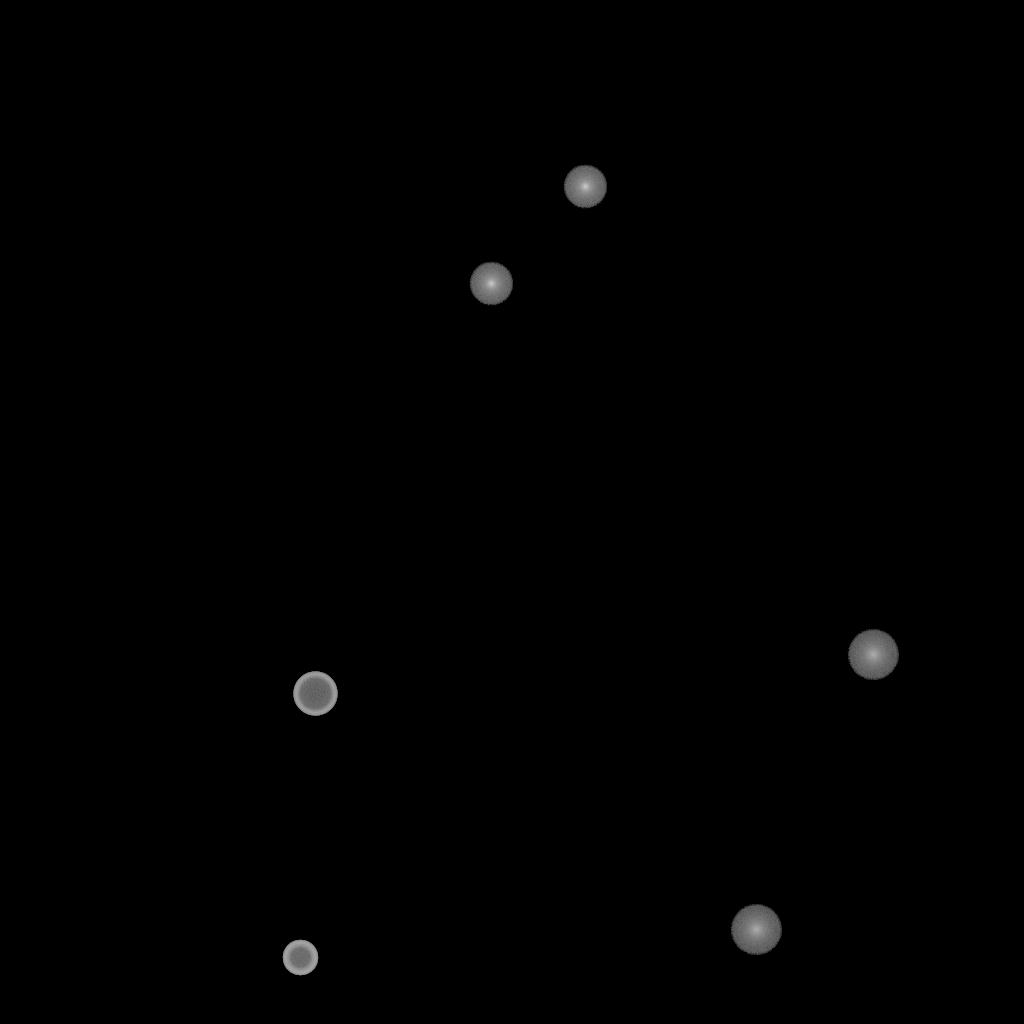depth:-60: (282, 940, 318, 976)
depth:-70: (293, 672, 337, 716)
depth:10: (563, 165, 607, 209), (469, 262, 513, 306)
depth:20: (847, 630, 899, 680), (730, 905, 782, 955)
